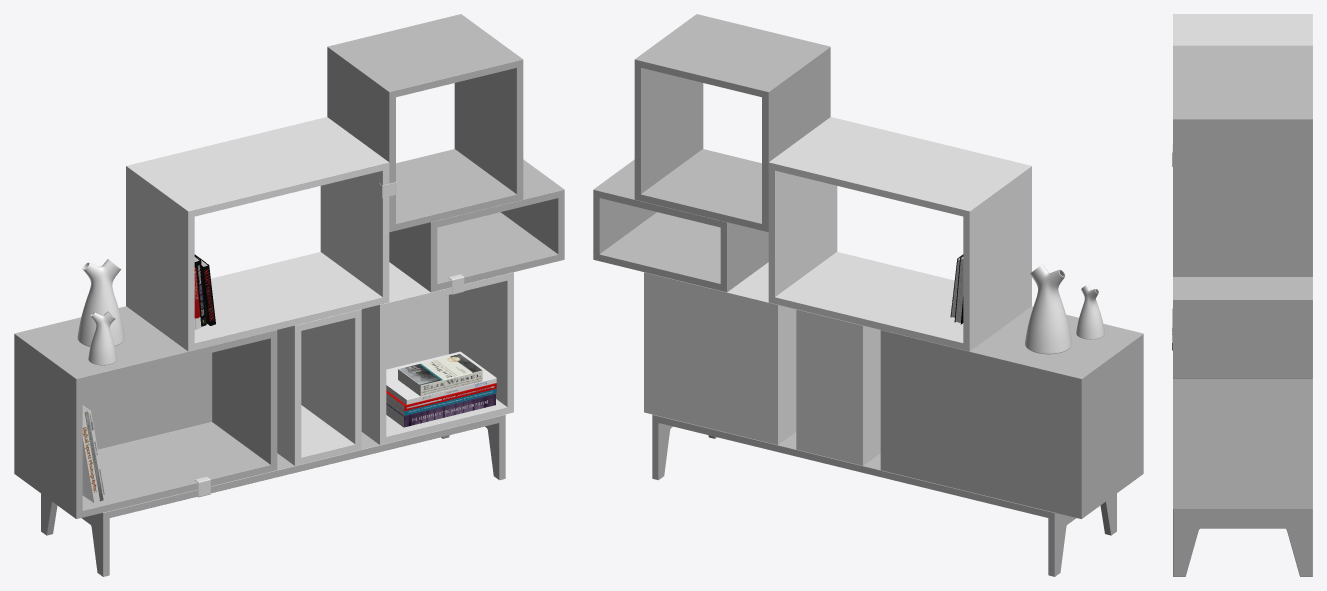
Rendered from Muuto_Stacked_On_Podium.fbx.
3 views of the same model, side by side, from view 1: azimuth 30°, elevation 25°; view 2: azimuth 150°, elevation 25°; view 3: azimuth 270°, elevation 25° (orthographic). The views are drawn at different scales.
Parts seen in each view (by area): view 1: Muuto_Stacked_On_Podium; view 2: Muuto_Stacked_On_Podium; view 3: Muuto_Stacked_On_Podium.
Part boxes in pixels (x1,y1,x2,y2): Muuto_Stacked_On_Podium: (14,14,564,576); Muuto_Stacked_On_Podium: (593,14,1143,576); Muuto_Stacked_On_Podium: (1172,14,1312,576).
Bounding box in the file's own units: 159 × 35.19 × 129.
